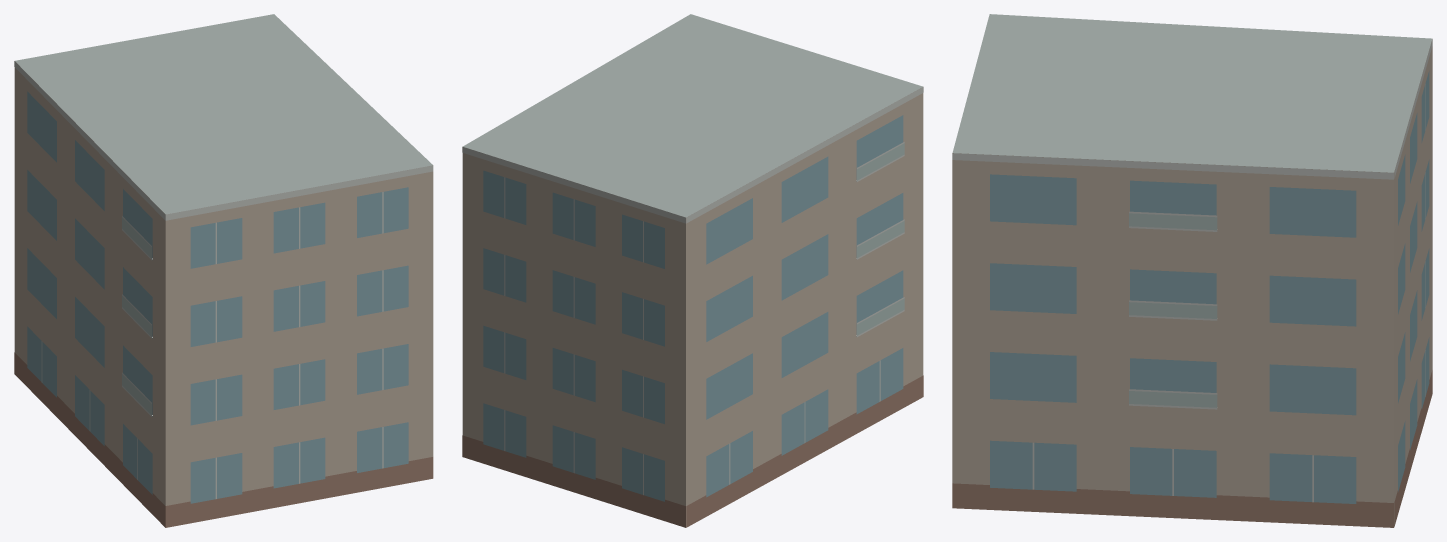
Rendered from survey-upis-32699780.glb.
3 views of the same model, side by side, from view 1: azimuth 30°, elevation 25°; view 2: azimuth 150°, elevation 25°; view 3: azimuth 270°, elevation 25° (orthographic). The views are drawn at different scales.
Visible parts, largest first — view 1: survey-upis-32699780.tmp; view 2: survey-upis-32699780.tmp; view 3: survey-upis-32699780.tmp.
Boxes of the visible parts, left/top/right/bottom form: survey-upis-32699780.tmp: left=14, top=14, right=433, bottom=527; survey-upis-32699780.tmp: left=462, top=14, right=923, bottom=527; survey-upis-32699780.tmp: left=952, top=14, right=1432, bottom=527.
Bounding box in the file's own units: 11.9 × 12.4 × 15.2.
